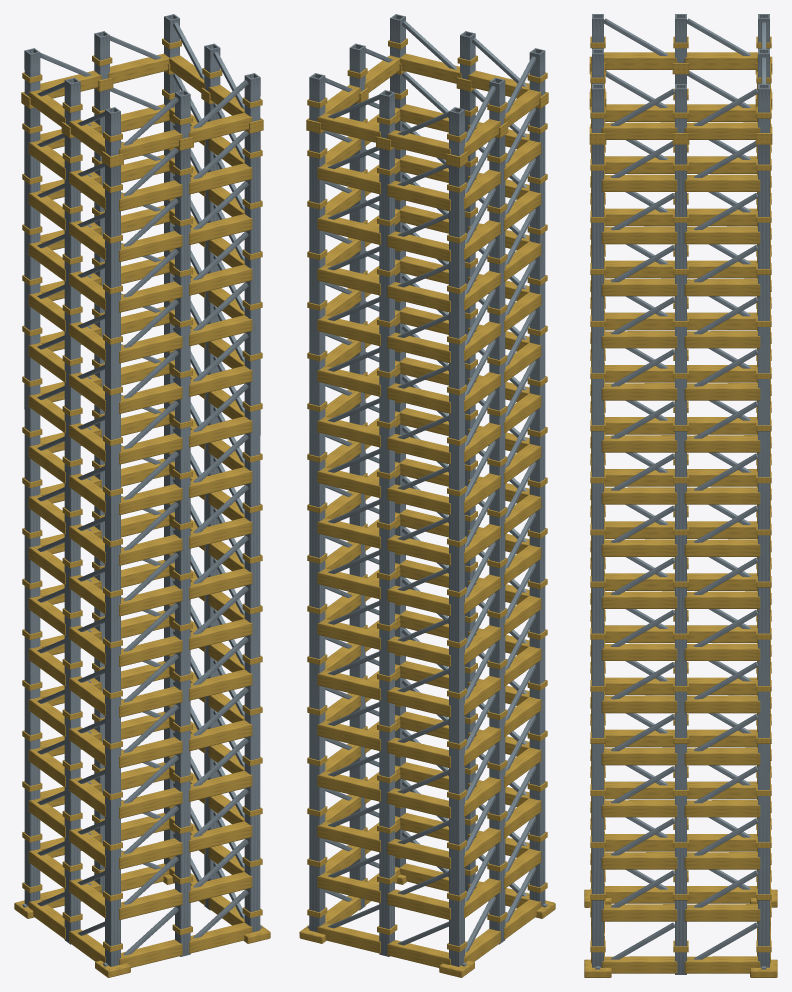
The picture shows the model from 3 angles, left to right: view 1: azimuth 30°, elevation 25°; view 2: azimuth 150°, elevation 25°; view 3: azimuth 270°, elevation 25°; orthographic projection. The views are drawn at different scales.
Parts seen in each view (by area): view 1: Tier 0 side 0 post 0, Tier 0 side 1 post 0, Tier 0 side 0 post 1, Tier 0 side 3 post 0, Tier 0 side 3 post 1, Tier 0 side 1 post 1, Tier 0 side 2 post 1, Tier 0 side 2 post 0, Tier 0 bay 0-6-1 service deck, Tier 0 bay 0-15-1 service deck, Tier 0 bay 0-2-1 service deck, Tier 0 bay 0-4-1 service deck (+90 smaller); view 2: Tier 0 side 3 post 0, Tier 0 side 2 post 0, Tier 0 side 2 post 1, Tier 0 side 0 post 0, Tier 0 side 3 post 1, Tier 0 side 1 post 1, Tier 0 side 1 post 0, Tier 0 side 0 post 1, Tier 0 bay 2-12-0 service deck, Tier 0 bay 2-3-0 service deck, Tier 0 bay 2-1-0 service deck, Tier 0 bay 2-14-0 service deck (+107 smaller); view 3: Tier 0 side 1 post 0, Tier 0 side 2 post 0, Tier 0 side 1 post 1, Tier 0 bay 1-14-0 service deck, Tier 0 bay 1-14-1 service deck, Tier 0 bay 1-5-0 service deck, Tier 0 bay 1-5-1 service deck, Tier 0 bay 1-13-0 service deck, Tier 0 bay 1-13-1 service deck, Tier 0 bay 1-4-0 service deck, Tier 0 bay 1-4-1 service deck, Tier 0 bay 1-1-1 service deck (+63 smaller).
Boxes of the visible parts, x1=… form: Tier 0 side 0 post 0: x1=105, y1=164, x2=120, y2=966; Tier 0 side 1 post 0: x1=244, y1=131, x2=260, y2=932; Tier 0 side 0 post 1: x1=175, y1=148, x2=190, y2=956; Tier 0 side 3 post 0: x1=24, y1=105, x2=40, y2=906; Tier 0 side 3 post 1: x1=64, y1=135, x2=80, y2=944; Tier 0 side 1 post 1: x1=204, y1=101, x2=219, y2=910; Tier 0 side 2 post 1: x1=94, y1=88, x2=109, y2=894; Tier 0 side 2 post 0: x1=164, y1=71, x2=179, y2=867; Tier 0 bay 0-6-1 service deck: x1=189, y1=619, x2=252, y2=649; Tier 0 bay 0-15-1 service deck: x1=189, y1=163, x2=252, y2=194; Tier 0 bay 0-2-1 service deck: x1=189, y1=821, x2=252, y2=852; Tier 0 bay 0-4-1 service deck: x1=189, y1=720, x2=252, y2=751; Tier 0 side 3 post 0: x1=449, y1=164, x2=464, y2=966; Tier 0 side 2 post 0: x1=309, y1=130, x2=325, y2=932; Tier 0 side 2 post 1: x1=379, y1=147, x2=394, y2=956; Tier 0 side 0 post 0: x1=529, y1=106, x2=545, y2=906; Tier 0 side 3 post 1: x1=489, y1=135, x2=505, y2=944; Tier 0 side 1 post 1: x1=349, y1=103, x2=365, y2=910; Tier 0 side 1 post 0: x1=390, y1=73, x2=405, y2=867; Tier 0 side 0 post 1: x1=460, y1=89, x2=475, y2=891; Tier 0 bay 2-12-0 service deck: x1=317, y1=315, x2=380, y2=346; Tier 0 bay 2-3-0 service deck: x1=317, y1=771, x2=380, y2=801; Tier 0 bay 2-1-0 service deck: x1=317, y1=872, x2=380, y2=902; Tier 0 bay 2-14-0 service deck: x1=317, y1=214, x2=380, y2=244; Tier 0 side 1 post 0: x1=592, y1=144, x2=603, y2=967; Tier 0 side 2 post 0: x1=758, y1=144, x2=769, y2=967; Tier 0 side 1 post 1: x1=675, y1=144, x2=686, y2=974; Tier 0 bay 1-14-0 service deck: x1=601, y1=226, x2=677, y2=244; Tier 0 bay 1-14-1 service deck: x1=684, y1=226, x2=760, y2=244; Tier 0 bay 1-5-0 service deck: x1=601, y1=695, x2=677, y2=713; Tier 0 bay 1-5-1 service deck: x1=684, y1=695, x2=760, y2=713; Tier 0 bay 1-13-0 service deck: x1=601, y1=278, x2=677, y2=296; Tier 0 bay 1-13-1 service deck: x1=684, y1=278, x2=760, y2=296; Tier 0 bay 1-4-0 service deck: x1=601, y1=747, x2=677, y2=765; Tier 0 bay 1-4-1 service deck: x1=684, y1=747, x2=760, y2=765; Tier 0 bay 1-1-1 service deck: x1=684, y1=904, x2=760, y2=921.
Size of the model in its own units: 1.05 by 5.3 by 1.05.
Materials: 2 (2 with a texture image).
